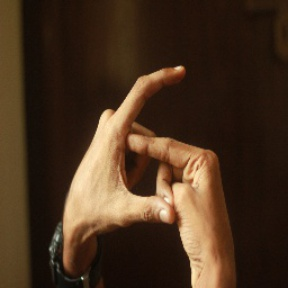E: (103, 64, 204, 228)
